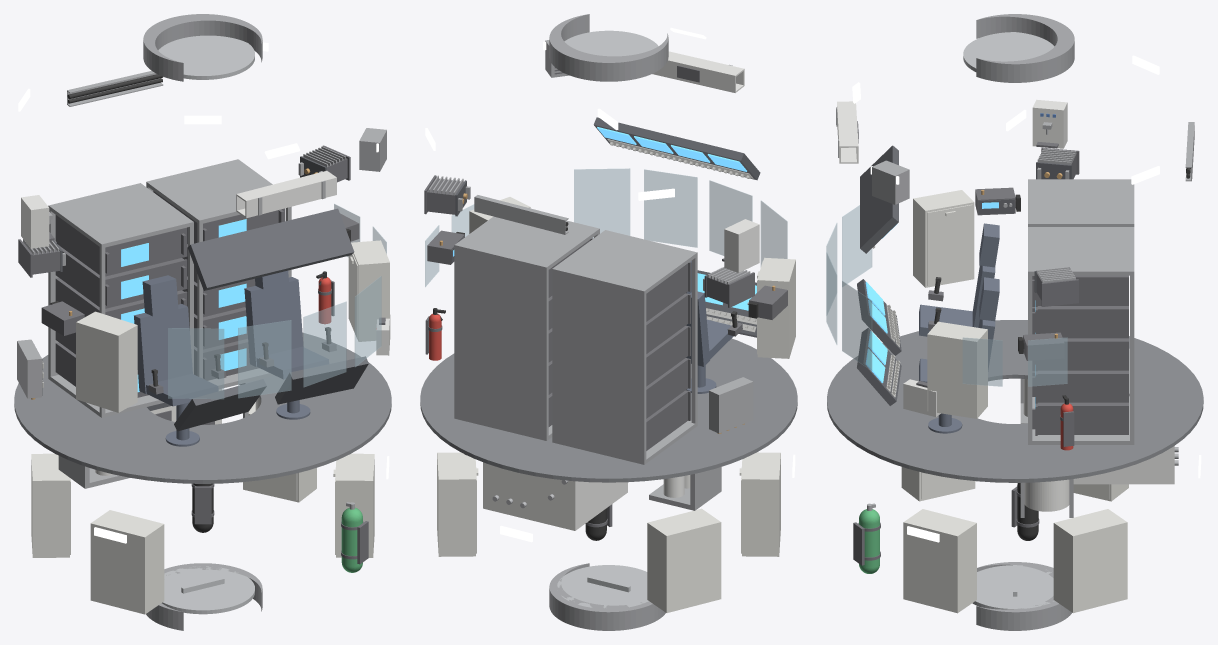
The model's file is cmd08_flight_deck_cutaway.glb.
3 renders of one model, left to right at view 1: azimuth 30°, elevation 25°; view 2: azimuth 150°, elevation 25°; view 3: azimuth 270°, elevation 25°, orthographic.
Visible parts, largest first — view 1: bridge_deck, stowage_lockers, window_glass_inner, eq05_1, eq05_1_rack_frame, overhead_panel, seat_1, seat_2, eq05_2_rack_frame, eq05_2, hatch_door_1, hatch_tunnel_2 (+18 smaller); view 2: eq05_1_rack_frame, eq05_2_rack_frame, stowage_lockers, bridge_deck, window_glass_inner, eq05_1, eq07_1_body, hatch_tunnel_2, hatch_door_1, hatch_tunnel_1, overhead_panel, eq06_1_enclosure (+16 smaller); view 3: stowage_lockers, bridge_deck, eq05_2, window_glass_inner, eq05_2_rack_frame, eq05_1_rack_frame, hatch_tunnel_2, hatch_door_1, hatch_tunnel_1, seat_1, hatch_door_2, overhead_panel (+17 smaller).
Boxes of the visible parts, left/top/right/bottom form: bridge_deck: left=14, top=332, right=391, bottom=483; stowage_lockers: left=31, top=240, right=389, bottom=614; window_glass_inner: left=168, top=204, right=386, bottom=399; eq05_1: left=55, top=215, right=187, bottom=397; eq05_1_rack_frame: left=48, top=183, right=193, bottom=417; overhead_panel: left=187, top=208, right=354, bottom=290; seat_1: left=134, top=275, right=218, bottom=446; seat_2: left=244, top=270, right=329, bottom=419; eq05_2_rack_frame: left=146, top=159, right=291, bottom=389; eq05_2: left=153, top=191, right=284, bottom=380; hatch_door_1: left=162, top=566, right=254, bottom=614; hatch_tunnel_2: left=143, top=14, right=262, bottom=81; eq05_1_rack_frame: left=552, top=230, right=697, bottom=464; eq05_2_rack_frame: left=454, top=216, right=599, bottom=440; stowage_lockers: left=437, top=197, right=795, bottom=612; bridge_deck: left=420, top=338, right=797, bottom=482; window_glass_inner: left=425, top=168, right=787, bottom=286; eq05_1: left=646, top=262, right=690, bottom=450; eq07_1_body: left=483, top=462, right=627, bottom=530; hatch_tunnel_2: left=549, top=14, right=668, bottom=81; hatch_door_1: left=557, top=565, right=648, bottom=608; hatch_tunnel_1: left=549, top=563, right=665, bottom=630; overhead_panel: left=593, top=117, right=760, bottom=180; eq06_1_enclosure: left=709, top=377, right=753, bottom=433; stowage_lockers: left=901, top=190, right=1128, bottom=613; bridge_deck: left=827, top=320, right=1203, bottom=482; eq05_2: left=1032, top=275, right=1128, bottom=435; window_glass_inner: left=826, top=205, right=1067, bottom=386; eq05_2_rack_frame: left=1028, top=227, right=1134, bottom=444; eq05_1_rack_frame: left=1028, top=179, right=1134, bottom=396; hatch_tunnel_2: left=976, top=14, right=1074, bottom=82; hatch_door_1: left=972, top=565, right=1054, bottom=609; hatch_tunnel_1: left=976, top=562, right=1071, bottom=630; seat_1: left=919, top=223, right=999, bottom=336; hatch_door_2: left=963, top=32, right=1054, bottom=71; overhead_panel: left=860, top=145, right=898, bottom=253.
Bounding box in the file's own units: 3.55 × 5.89 × 3.55.
